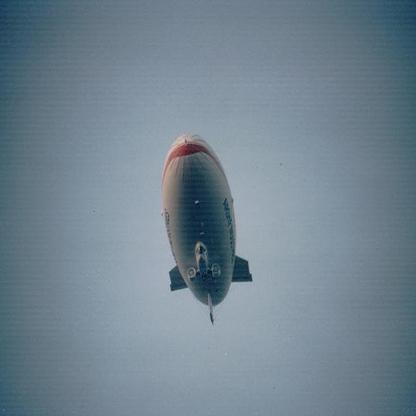Airship: (158, 131, 257, 327)
